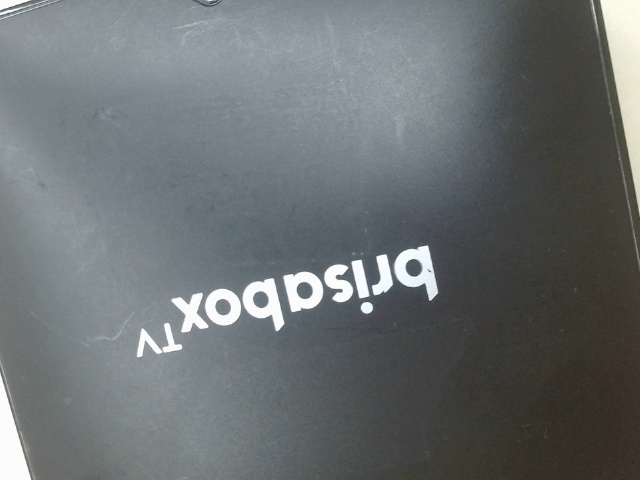AH_brisabox: (106, 238, 446, 363)
